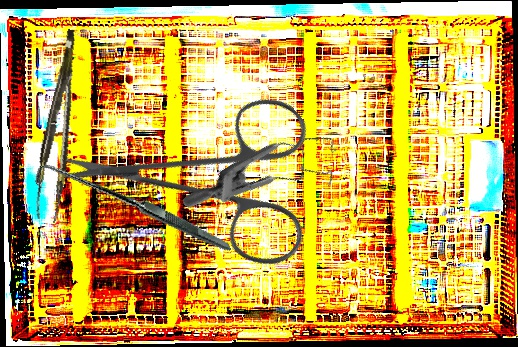Hook Surgical: (30, 107, 232, 315)
Iris Scissors: (53, 21, 367, 336)
Speculum: (181, 90, 354, 269)
Tissue Forceps: (24, 28, 99, 224)
